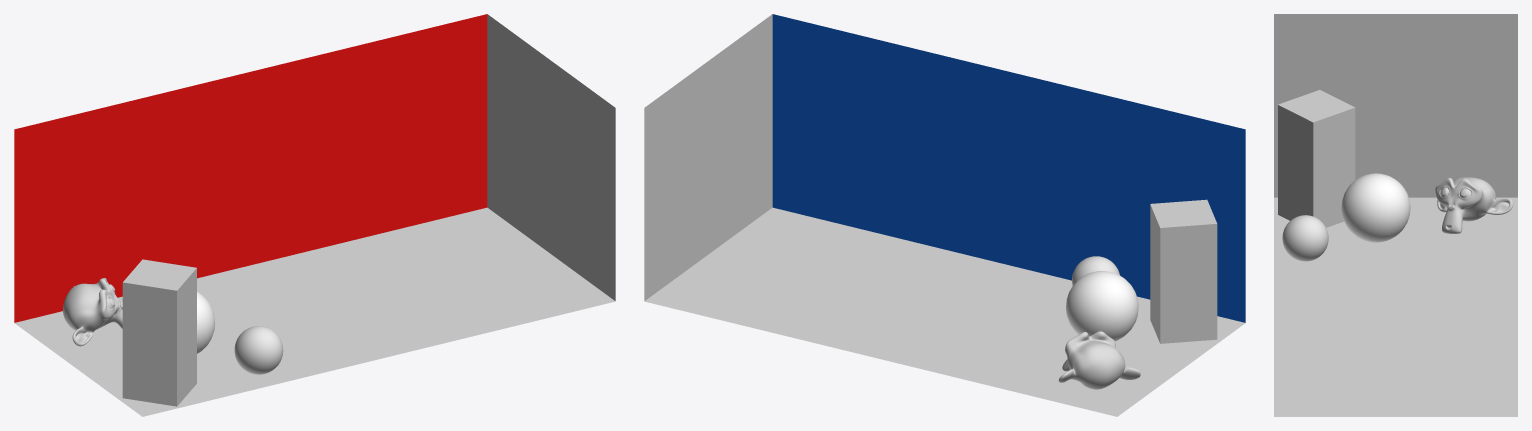
File: cornellbox.gltf
3 views of the same model, side by side, from view 1: azimuth 30°, elevation 25°; view 2: azimuth 150°, elevation 25°; view 3: azimuth 270°, elevation 25° (orthographic). The views are drawn at different scales.
Visible parts, largest first — view 1: Box, Cube, Suzanne, MetalSphere, GlassSphere; view 2: Box, Cube, GlassSphere, Suzanne, MetalSphere; view 3: Box, Cube, GlassSphere, Suzanne, MetalSphere.
Part boxes in pixels (x1=…): Box: x1=14, y1=14, x2=615, y2=416; Cube: x1=122, y1=259, x2=196, y2=406; Suzanne: x1=63, y1=278, x2=122, y2=346; MetalSphere: x1=234, y1=326, x2=283, y2=374; GlassSphere: x1=197, y1=291, x2=215, y2=353; Box: x1=644, y1=14, x2=1245, y2=416; Cube: x1=1150, y1=199, x2=1217, y2=343; GlassSphere: x1=1066, y1=271, x2=1138, y2=341; Suzanne: x1=1058, y1=331, x2=1140, y2=389; MetalSphere: x1=1072, y1=256, x2=1119, y2=285; Box: x1=1274, y1=14, x2=1517, y2=416; Cube: x1=1278, y1=90, x2=1355, y2=227; GlassSphere: x1=1341, y1=173, x2=1410, y2=242; Suzanne: x1=1435, y1=177, x2=1513, y2=233; MetalSphere: x1=1282, y1=215, x2=1328, y2=261.
Size of the model in its own units: 5.12 by 2 by 2.4.
